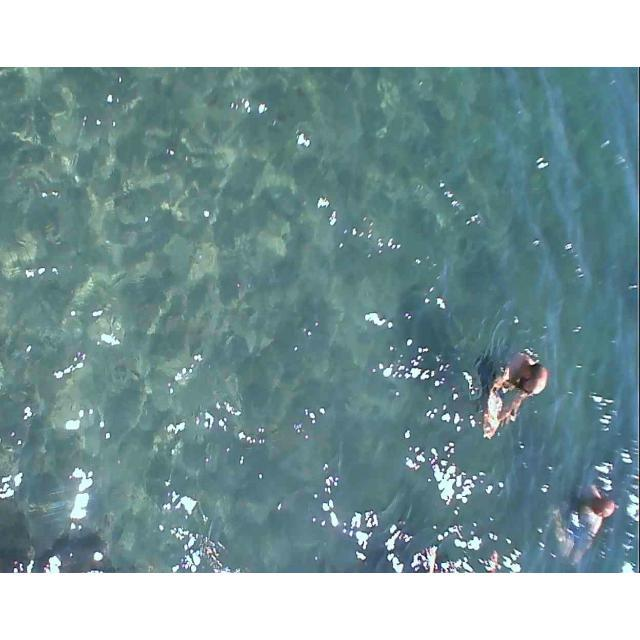human: (477, 332, 549, 451), (568, 473, 613, 563)
